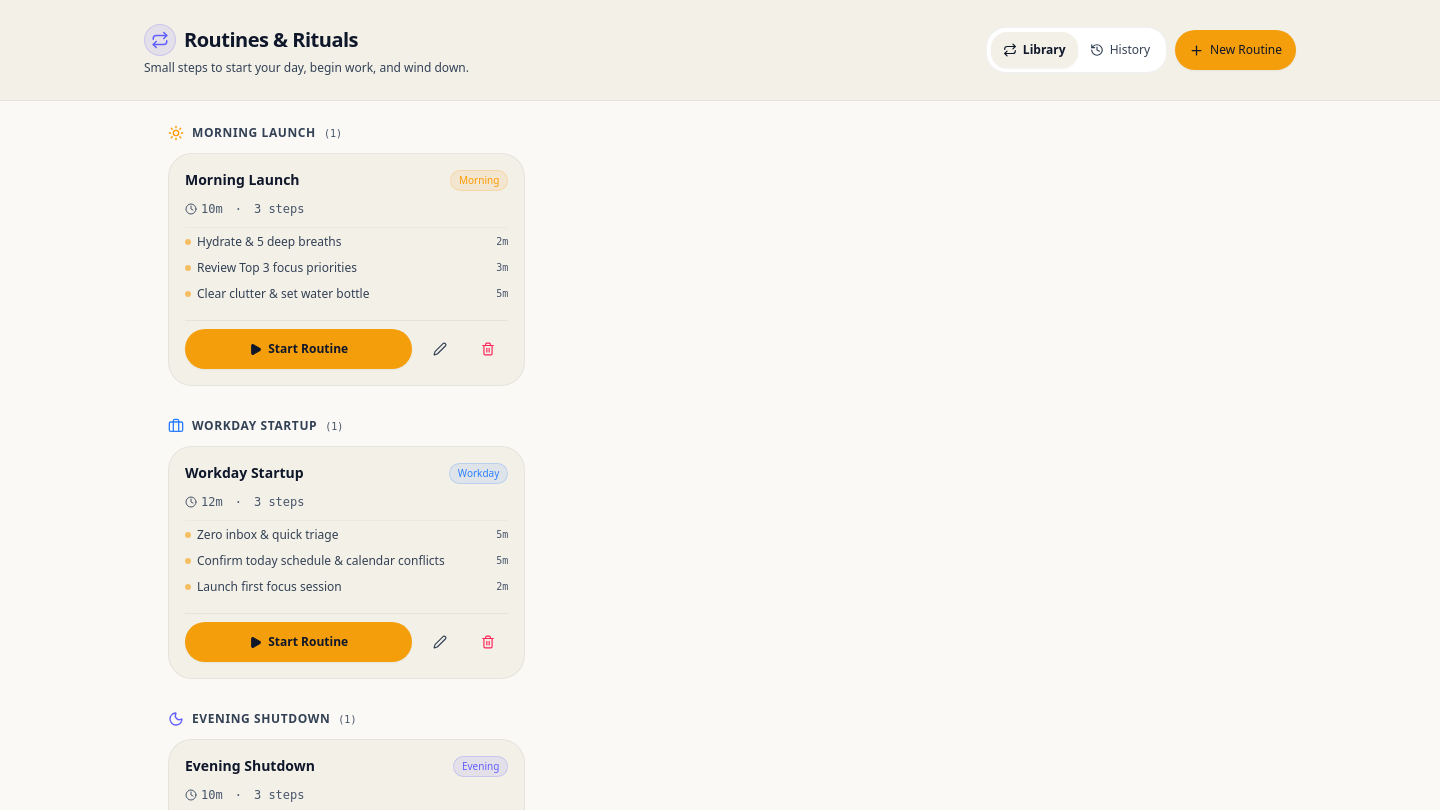
it: RoutinesView › keeps keyboard focus in the editor and closes it with Escape
Click the button "New Routine" at [1236, 50], box x1=1175 y1=30 x2=1296 y2=70
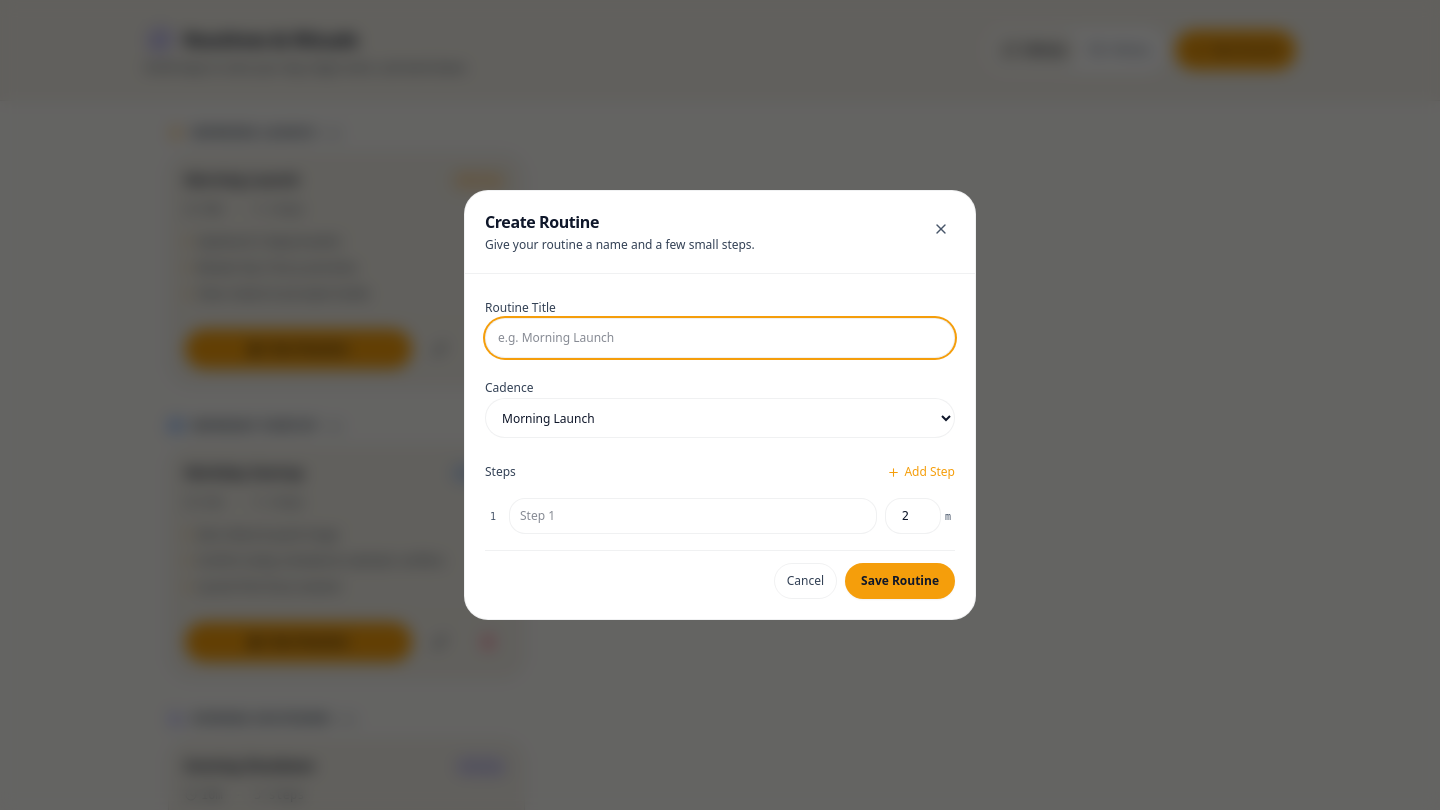
Expected: the dialog "Create Routine" is shown
Press Escape
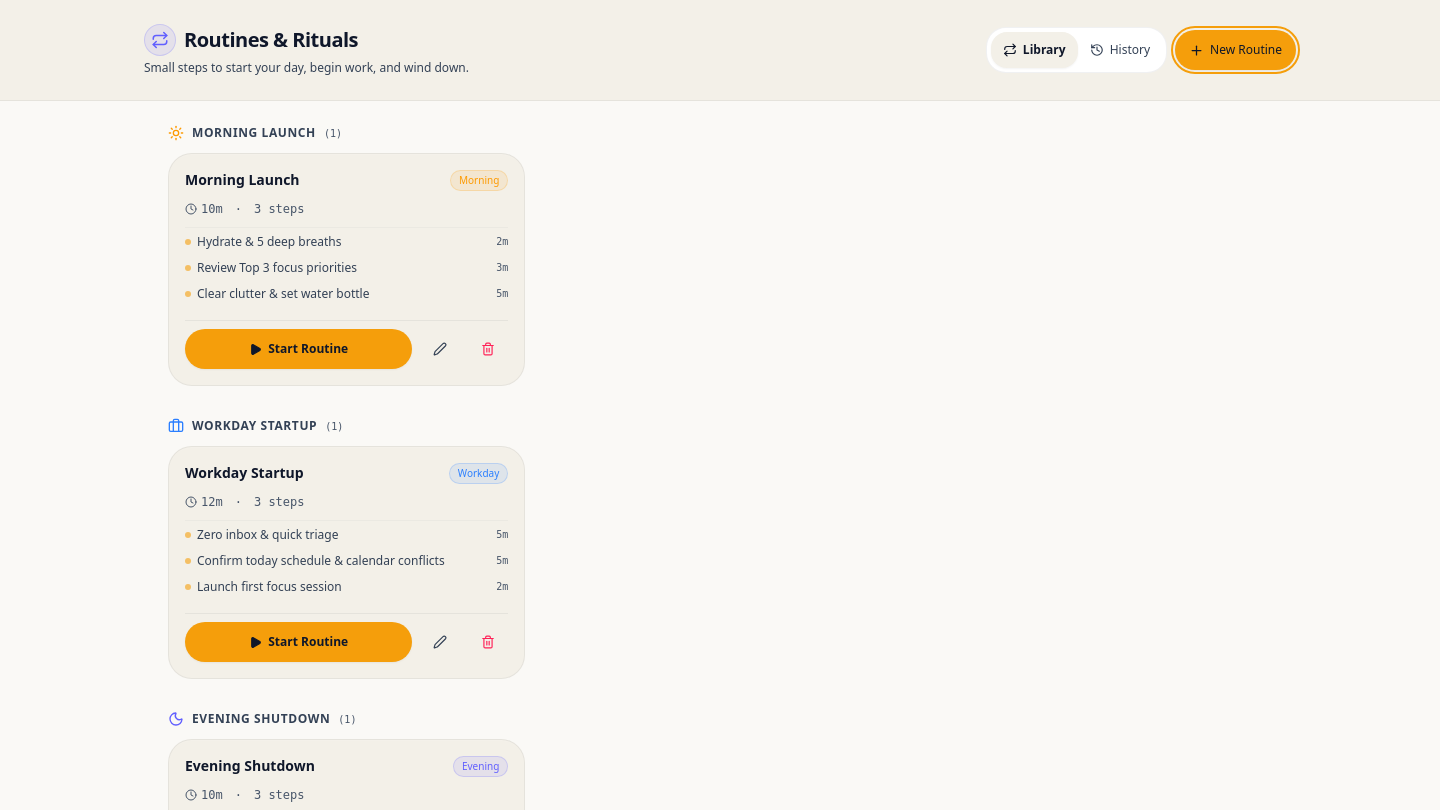
Expected: the dialog is gone
